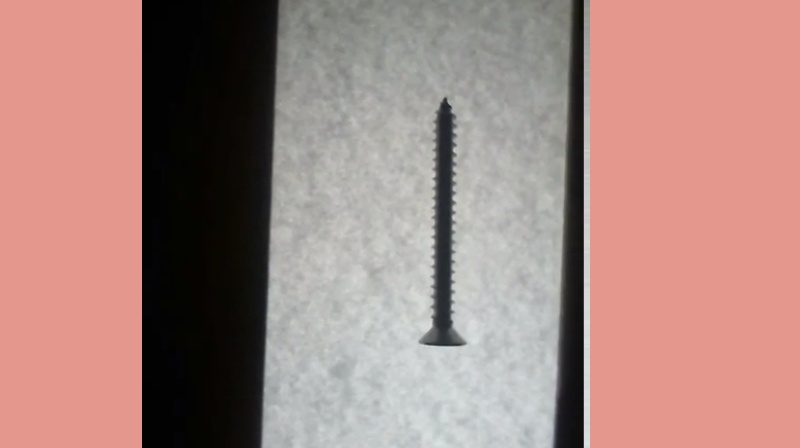S002: (415, 92, 471, 349)
